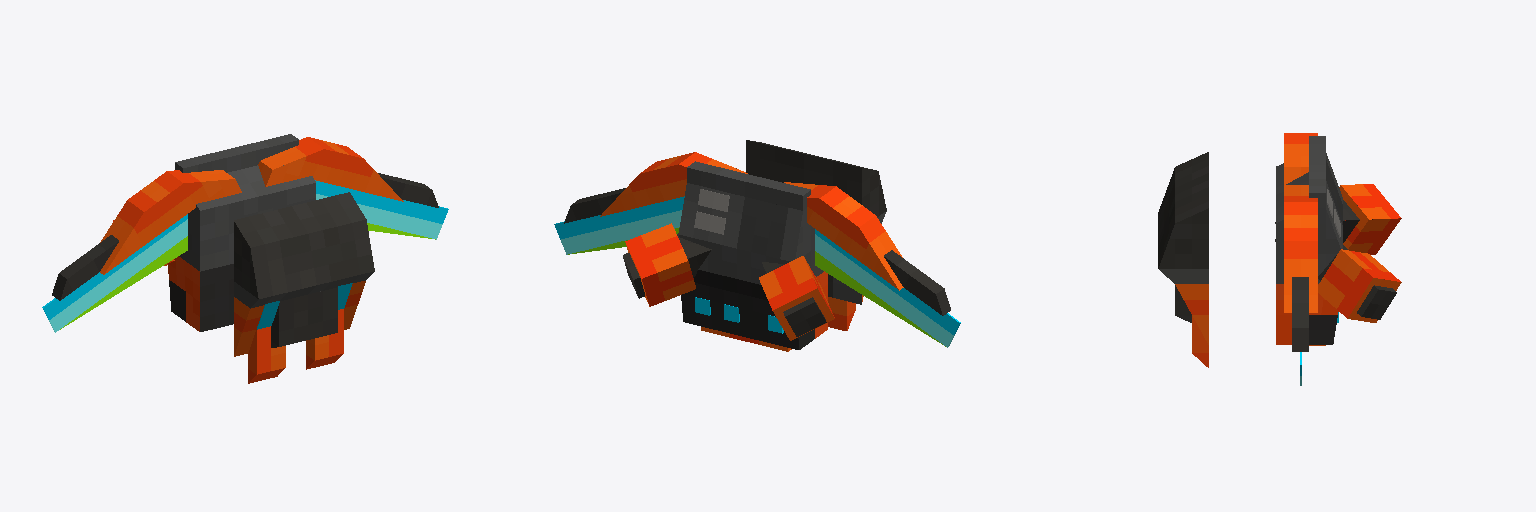
3 renders of one model, left to right at view 1: azimuth 30°, elevation 25°; view 2: azimuth 150°, elevation 25°; view 3: azimuth 270°, elevation 25°, orthographic.
Parts seen in each view (by area): view 1: jetpack_chestplate, jetpack_armored, jetpack_wings_r, jetpack_wings_l; view 2: jetpack_armored, jetpack_wings_r, jetpack_wings_l, jetpack_chestplate; view 3: jetpack_armored, jetpack_chestplate, jetpack_wings_l, jetpack_wings_r.
Boxes of the visible parts, x1=… form: jetpack_chestplate: x1=234, y1=192, x2=374, y2=383; jetpack_armored: x1=113, y1=134, x2=315, y2=331; jetpack_wings_r: x1=42, y1=170, x2=241, y2=332; jetpack_wings_l: x1=258, y1=137, x2=448, y2=239; jetpack_armored: x1=623, y1=161, x2=834, y2=351; jetpack_wings_r: x1=784, y1=182, x2=960, y2=347; jetpack_wings_l: x1=554, y1=152, x2=747, y2=254; jetpack_chestplate: x1=746, y1=140, x2=886, y2=330; jetpack_armored: x1=1275, y1=136, x2=1401, y2=345; jetpack_chestplate: x1=1158, y1=152, x2=1208, y2=367; jetpack_wings_l: x1=1284, y1=185, x2=1317, y2=385; jetpack_wings_r: x1=1284, y1=133, x2=1317, y2=184.
Size of the model in its own units: 1.75 by 0.75 by 0.9073.
Materials: 3 (3 with a texture image).